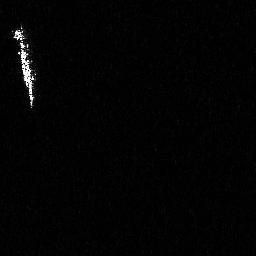ship: (10, 22, 39, 111)
